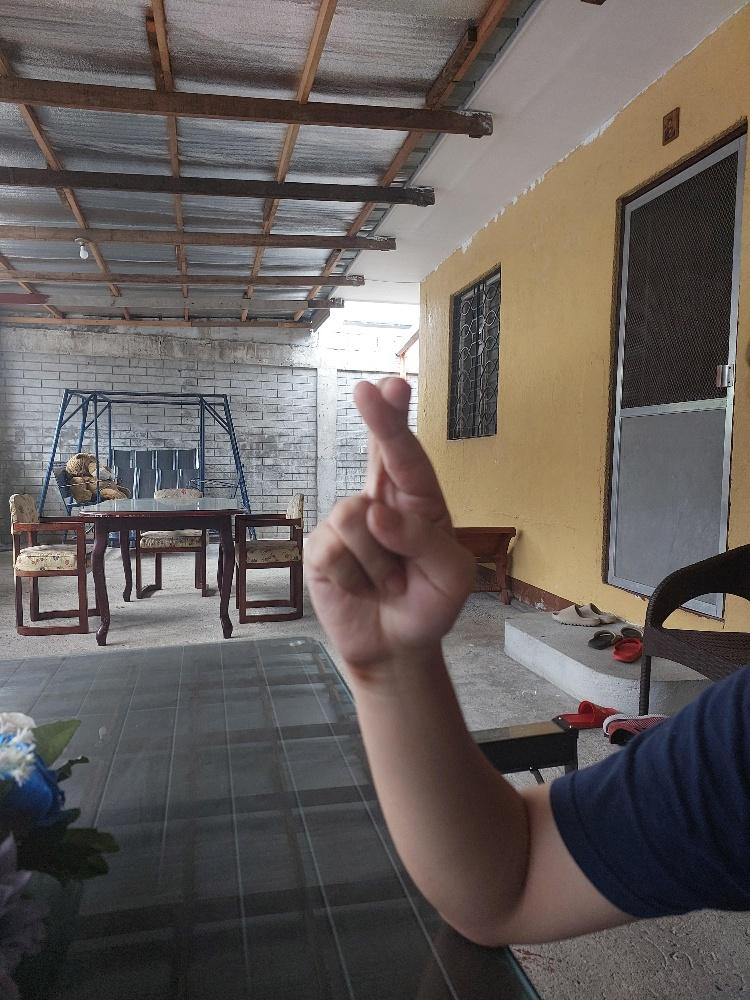r: (295, 369, 479, 673)
